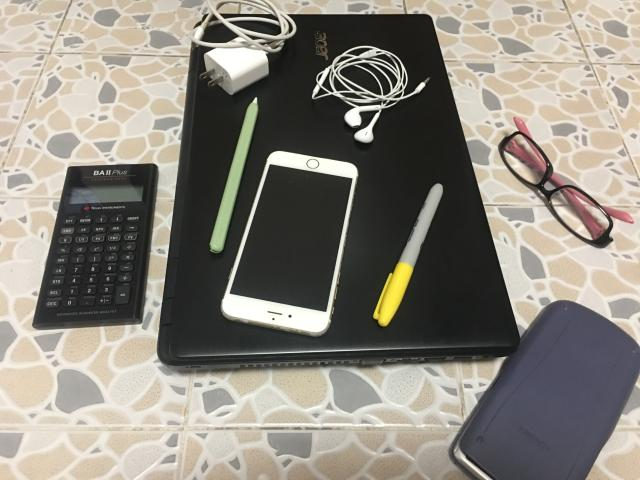Glasses: (499, 118, 632, 248)
Mobile phone: (221, 151, 358, 336)
Pen: (374, 184, 442, 326)
wire: (311, 45, 430, 144), (190, 0, 296, 95)
